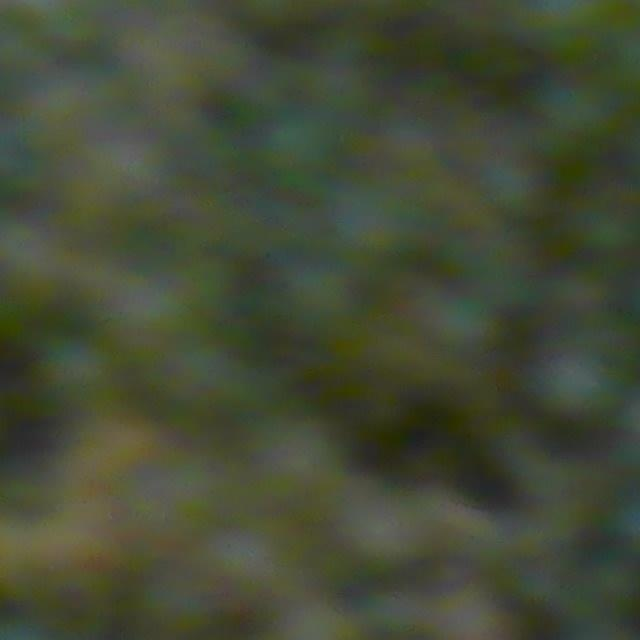SeaGrape: (534, 346, 617, 421), (36, 333, 115, 411)
